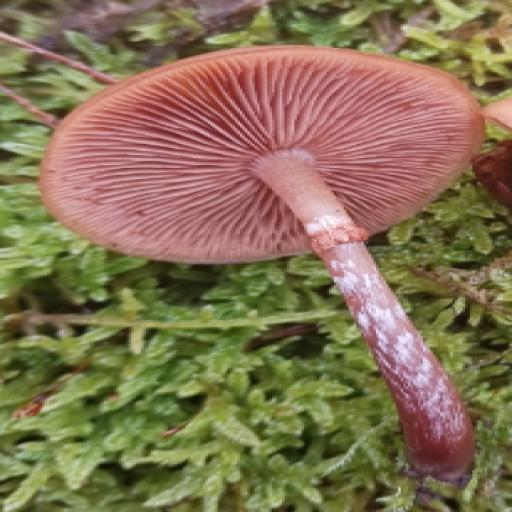mushroom: (30, 34, 490, 374)
